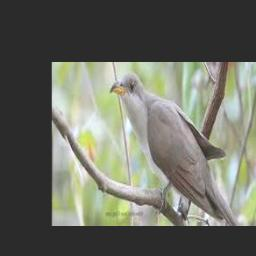Cuckoo: (110, 71, 239, 226)
